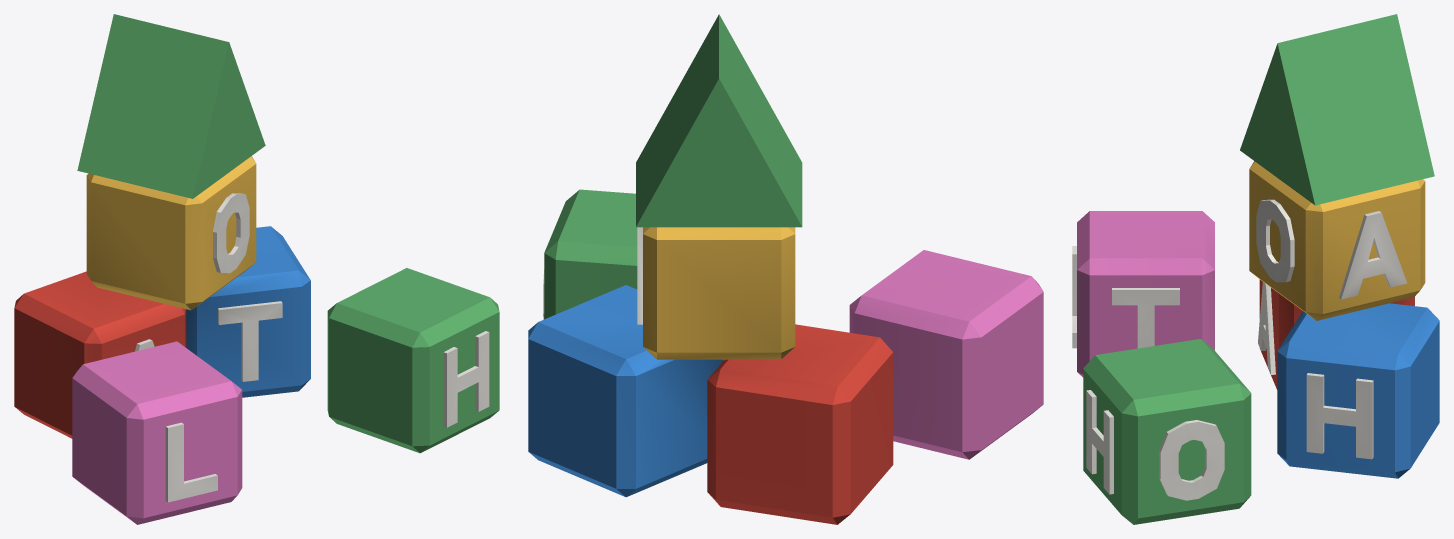
The model's file is toyBlocks.glb.
The picture shows the model from 3 angles, left to right: view 1: azimuth 30°, elevation 25°; view 2: azimuth 150°, elevation 25°; view 3: azimuth 270°, elevation 25°; orthographic projection. The views are drawn at different scales.
Parts seen in each view (by area): view 1: toyBlocks; view 2: toyBlocks; view 3: toyBlocks.
Boxes of the visible parts, box(x1,y1,x2,y2) form: toyBlocks: box(14, 14, 499, 524); toyBlocks: box(528, 14, 1043, 524); toyBlocks: box(1072, 14, 1439, 524).
Size of the model in its own units: 0.2221 by 0.2 by 0.1731.
